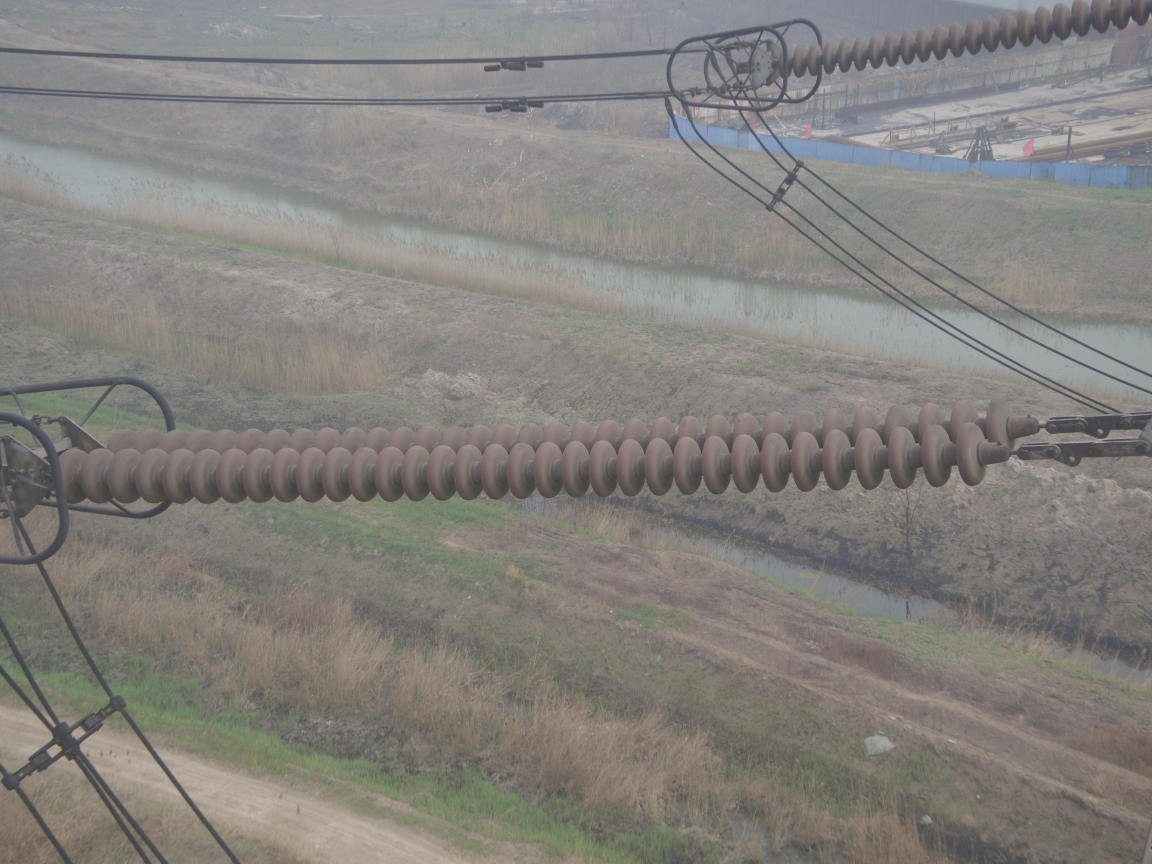insulator: (26, 392, 1106, 511), (772, 1, 1152, 82)
